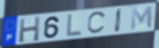6: (44, 16, 61, 40)
C: (86, 10, 108, 35)
H: (18, 15, 42, 44)
I: (113, 7, 123, 33)
L: (65, 12, 84, 38)
M: (130, 5, 153, 32)
